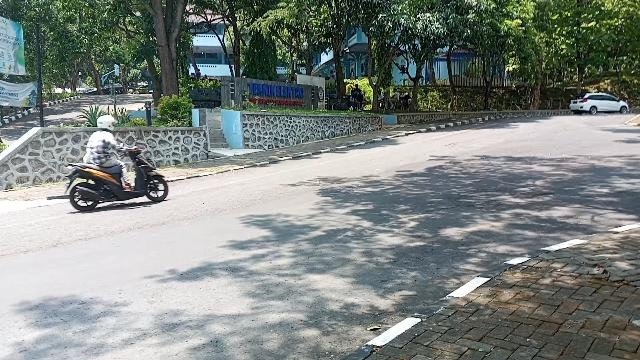helm: (97, 114, 119, 132)
motor: (64, 144, 171, 213)
